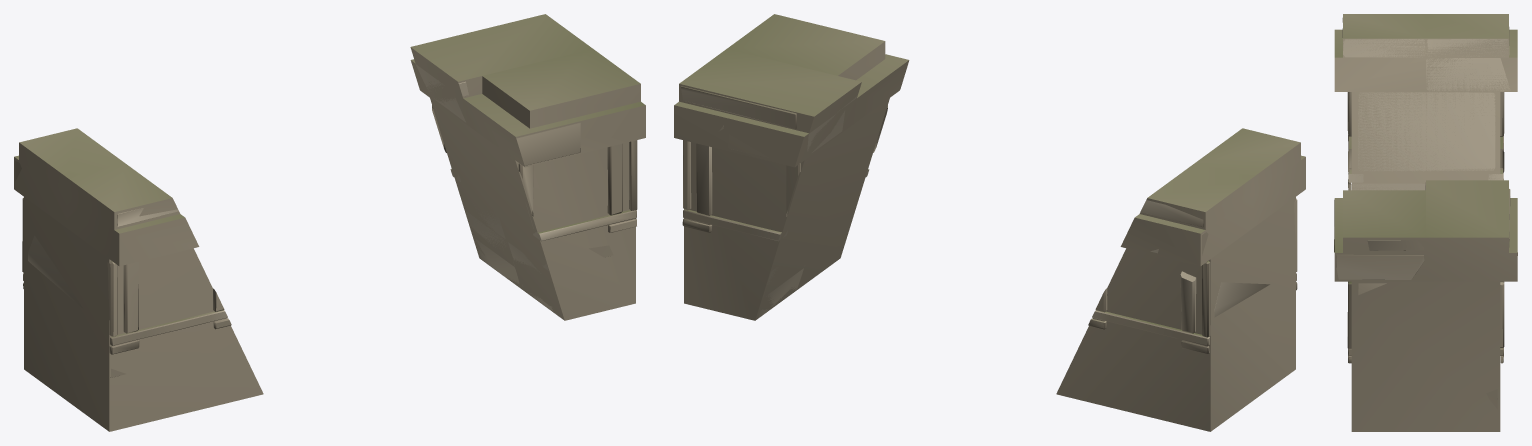
Rendered from lintel_snapped.glb.
The picture shows the model from 3 angles, left to right: view 1: azimuth 30°, elevation 25°; view 2: azimuth 150°, elevation 25°; view 3: azimuth 270°, elevation 25°; orthographic projection. The views are drawn at different scales.
Visible parts, largest first — view 1: lintel_snapped_far, lintel_snapped; view 2: lintel_snapped_far, lintel_snapped; view 3: lintel_snapped_far, lintel_snapped.
Part boxes in pixels (box(x1,y1,x2,y2)): lintel_snapped_far: box(14, 14, 645, 431); lintel_snapped: box(15, 64, 637, 377); lintel_snapped_far: box(674, 14, 1305, 431); lintel_snapped: box(681, 83, 1297, 353); lintel_snapped_far: box(1334, 14, 1517, 431); lintel_snapped: box(1334, 18, 1517, 409).
Size of the model in its own units: 18.52 by 7.5 by 6.43.
